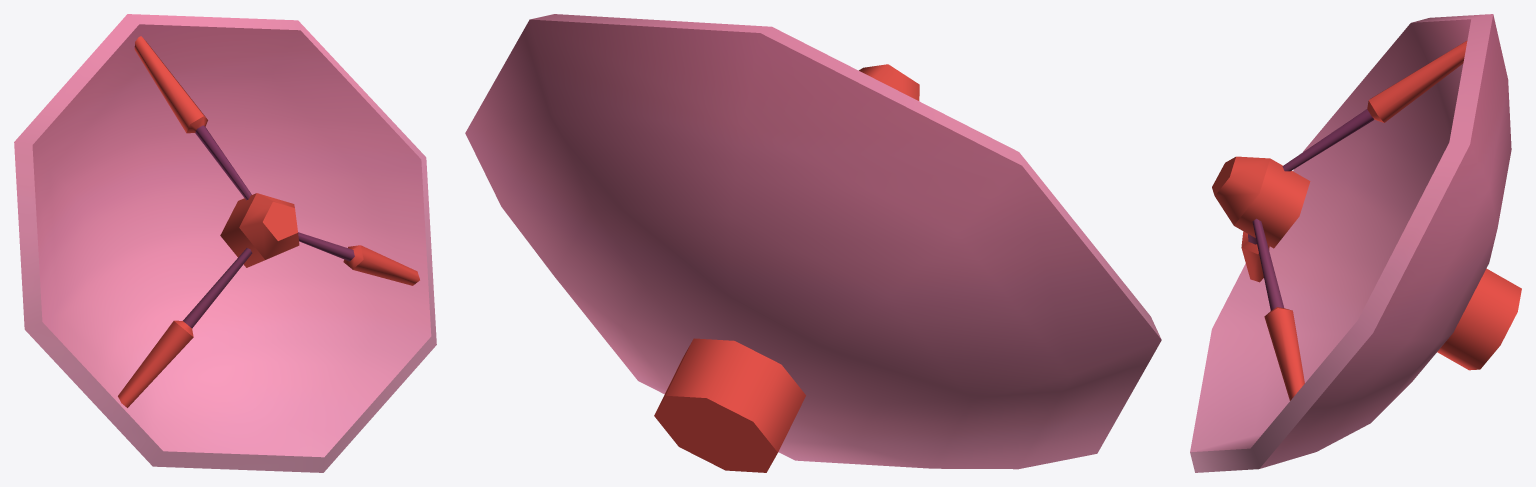
File: Antene_2_D_1.fbx
3 renders of one model, left to right at view 1: azimuth 30°, elevation 25°; view 2: azimuth 150°, elevation 25°; view 3: azimuth 270°, elevation 25°, orthographic. The views are drawn at different scales.
Visible parts, largest first — view 1: Antene_2_D_1; view 2: Antene_2_D_1; view 3: Antene_2_D_1.
Boxes of the visible parts, x1=… form: Antene_2_D_1: x1=14, y1=14, x2=436, y2=472; Antene_2_D_1: x1=465, y1=14, x2=1161, y2=472; Antene_2_D_1: x1=1190, y1=14, x2=1521, y2=472.
Size of the model in its own units: 142 by 120 by 84.78.
